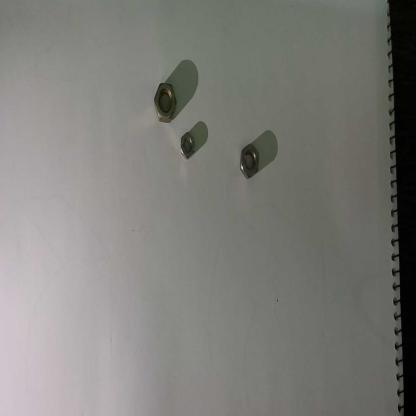NUTS: (152, 76, 178, 124), (240, 138, 262, 182), (178, 130, 195, 160)
